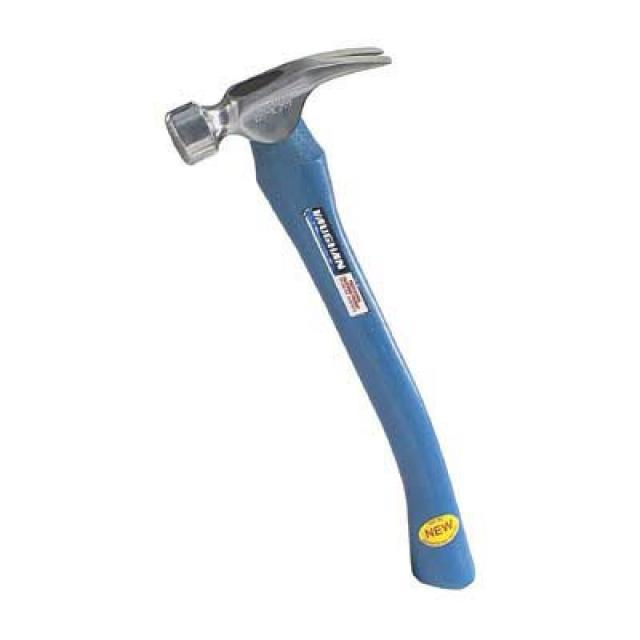hammer: (156, 39, 482, 598)
